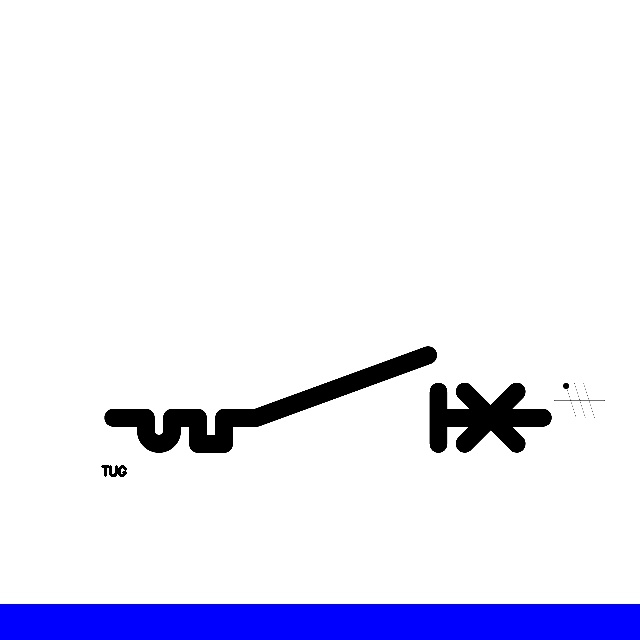interruptor_termomagnetico: (102, 344, 554, 455)
